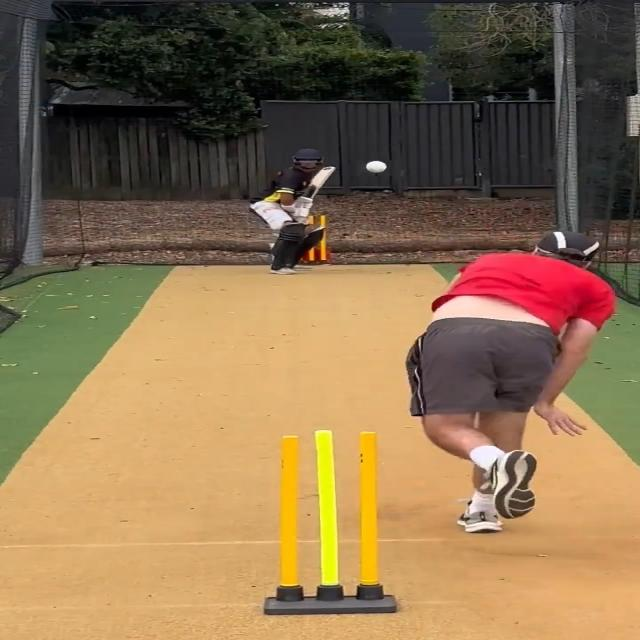ball: (362, 159, 390, 176)
stump: (263, 429, 396, 614)
